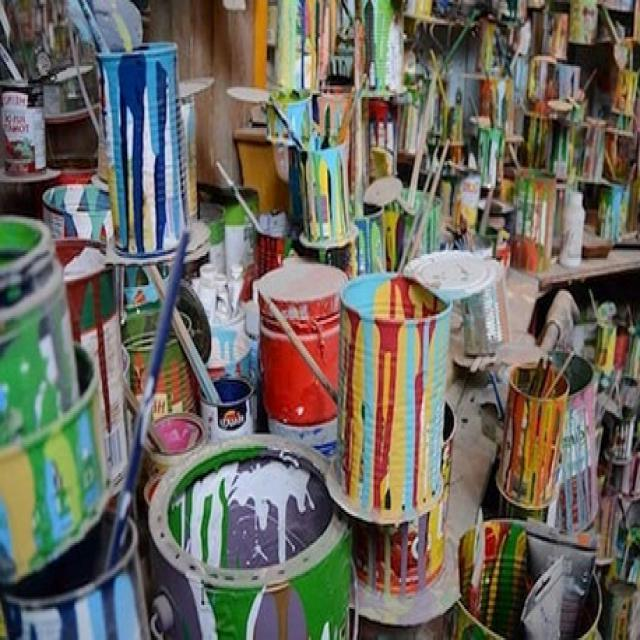B3: (148, 434, 353, 637), (337, 275, 455, 520), (328, 417, 461, 629), (0, 342, 114, 579), (96, 44, 187, 255), (256, 261, 349, 456), (57, 249, 126, 490), (494, 363, 570, 512), (537, 355, 599, 528), (407, 251, 501, 360), (453, 519, 538, 637), (124, 329, 197, 427), (298, 140, 353, 248), (202, 185, 258, 275), (42, 185, 112, 247), (392, 192, 442, 268), (266, 92, 314, 149)
